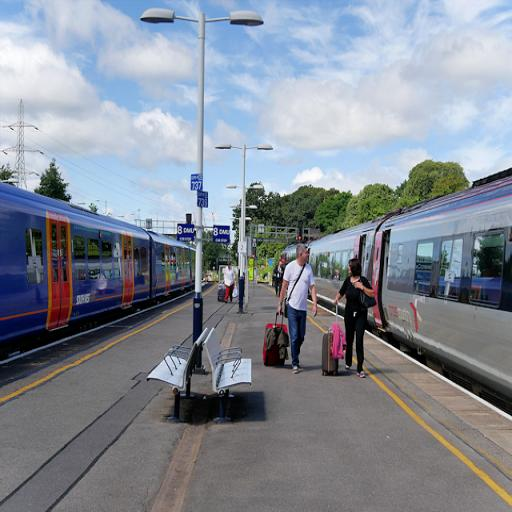platform_edge: (381, 372, 512, 512), (2, 331, 103, 402)
